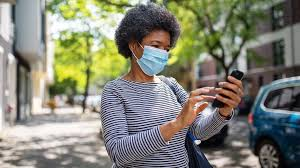FaceMask: (137, 45, 168, 76)
